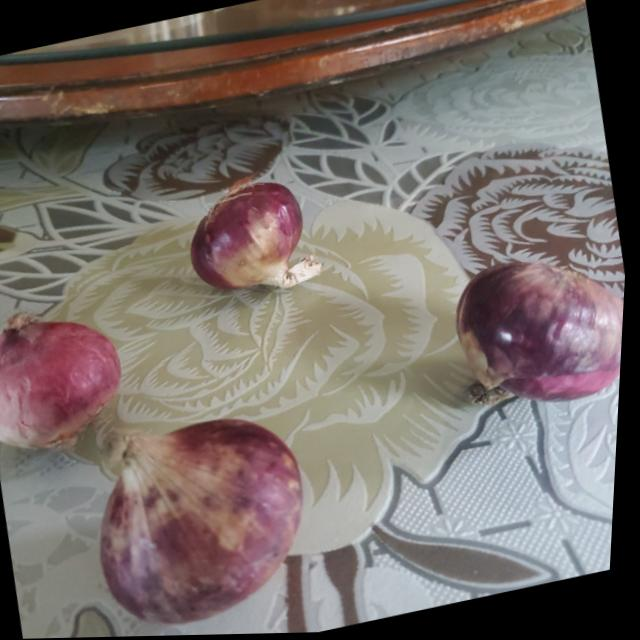onion: (80, 402, 329, 635), (453, 243, 630, 427), (0, 301, 136, 459), (181, 176, 317, 301)
